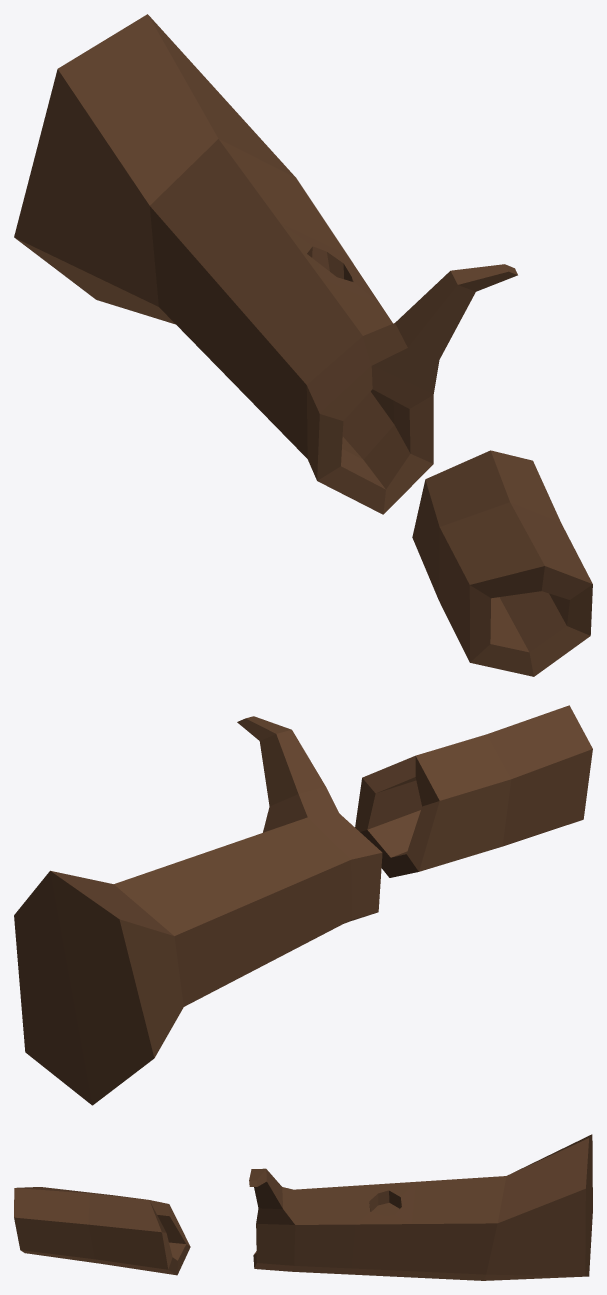
Rendered from FallenTree_2.fbx.
The picture shows the model from 3 angles, top to bottom: view 1: azimuth 30°, elevation 25°; view 2: azimuth 150°, elevation 25°; view 3: azimuth 270°, elevation 25°; orthographic projection. The views are drawn at different scales.
Visible parts, largest first — view 1: FallenTree_2; view 2: FallenTree_2; view 3: FallenTree_2.
Boxes of the visible parts, x1=… form: FallenTree_2: x1=14, y1=14, x2=592, y2=676; FallenTree_2: x1=14, y1=705, x2=592, y2=1105; FallenTree_2: x1=14, y1=1134, x2=592, y2=1280.
Bounding box in the file's own units: 158 × 172 × 591.
